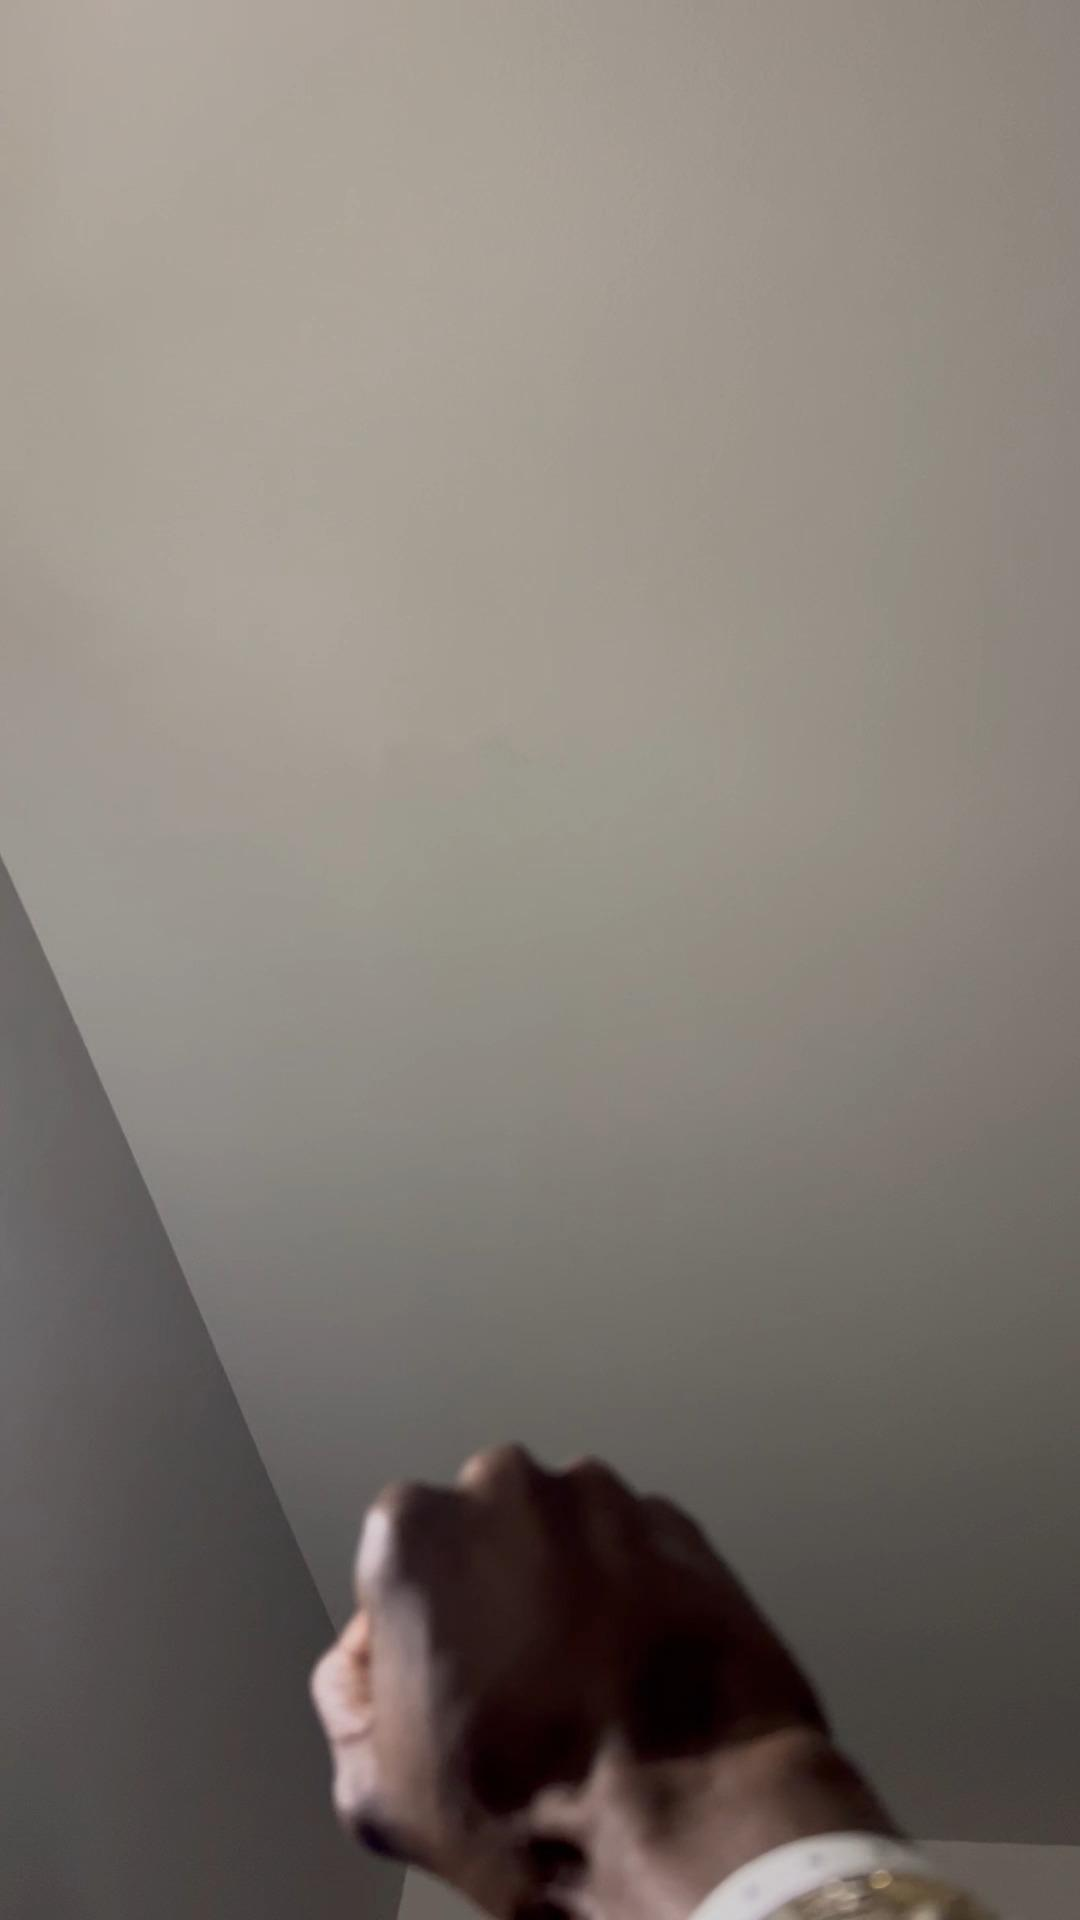Rock: (307, 1429, 843, 1911)
